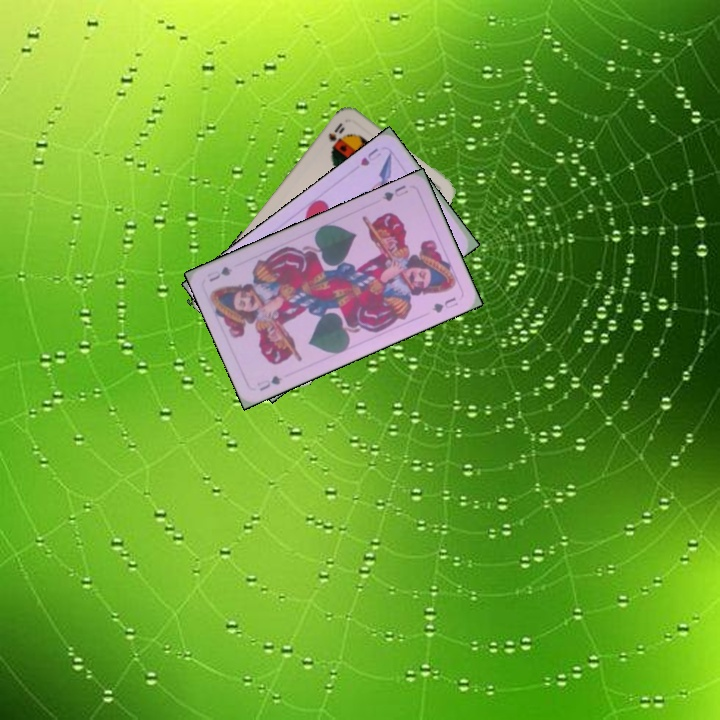GU: (378, 181, 411, 204), (253, 371, 285, 394)
HU: (356, 144, 384, 169)
SO: (325, 119, 347, 151)
